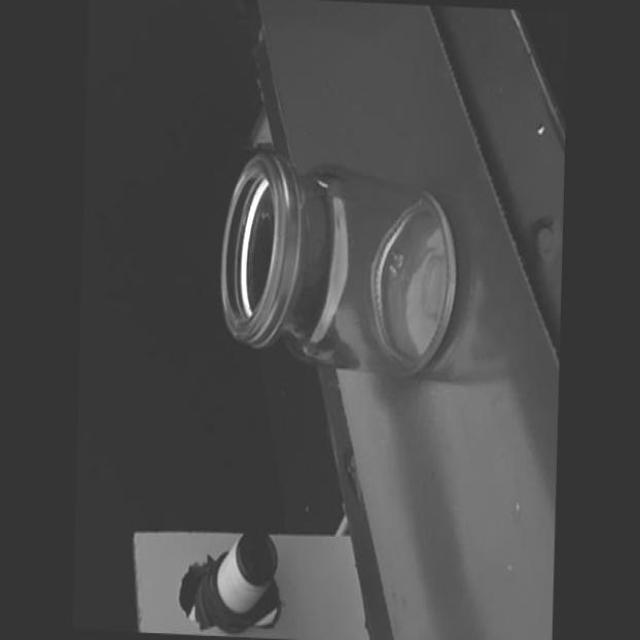defect: (316, 174, 332, 190)
glass: (218, 138, 456, 376)
